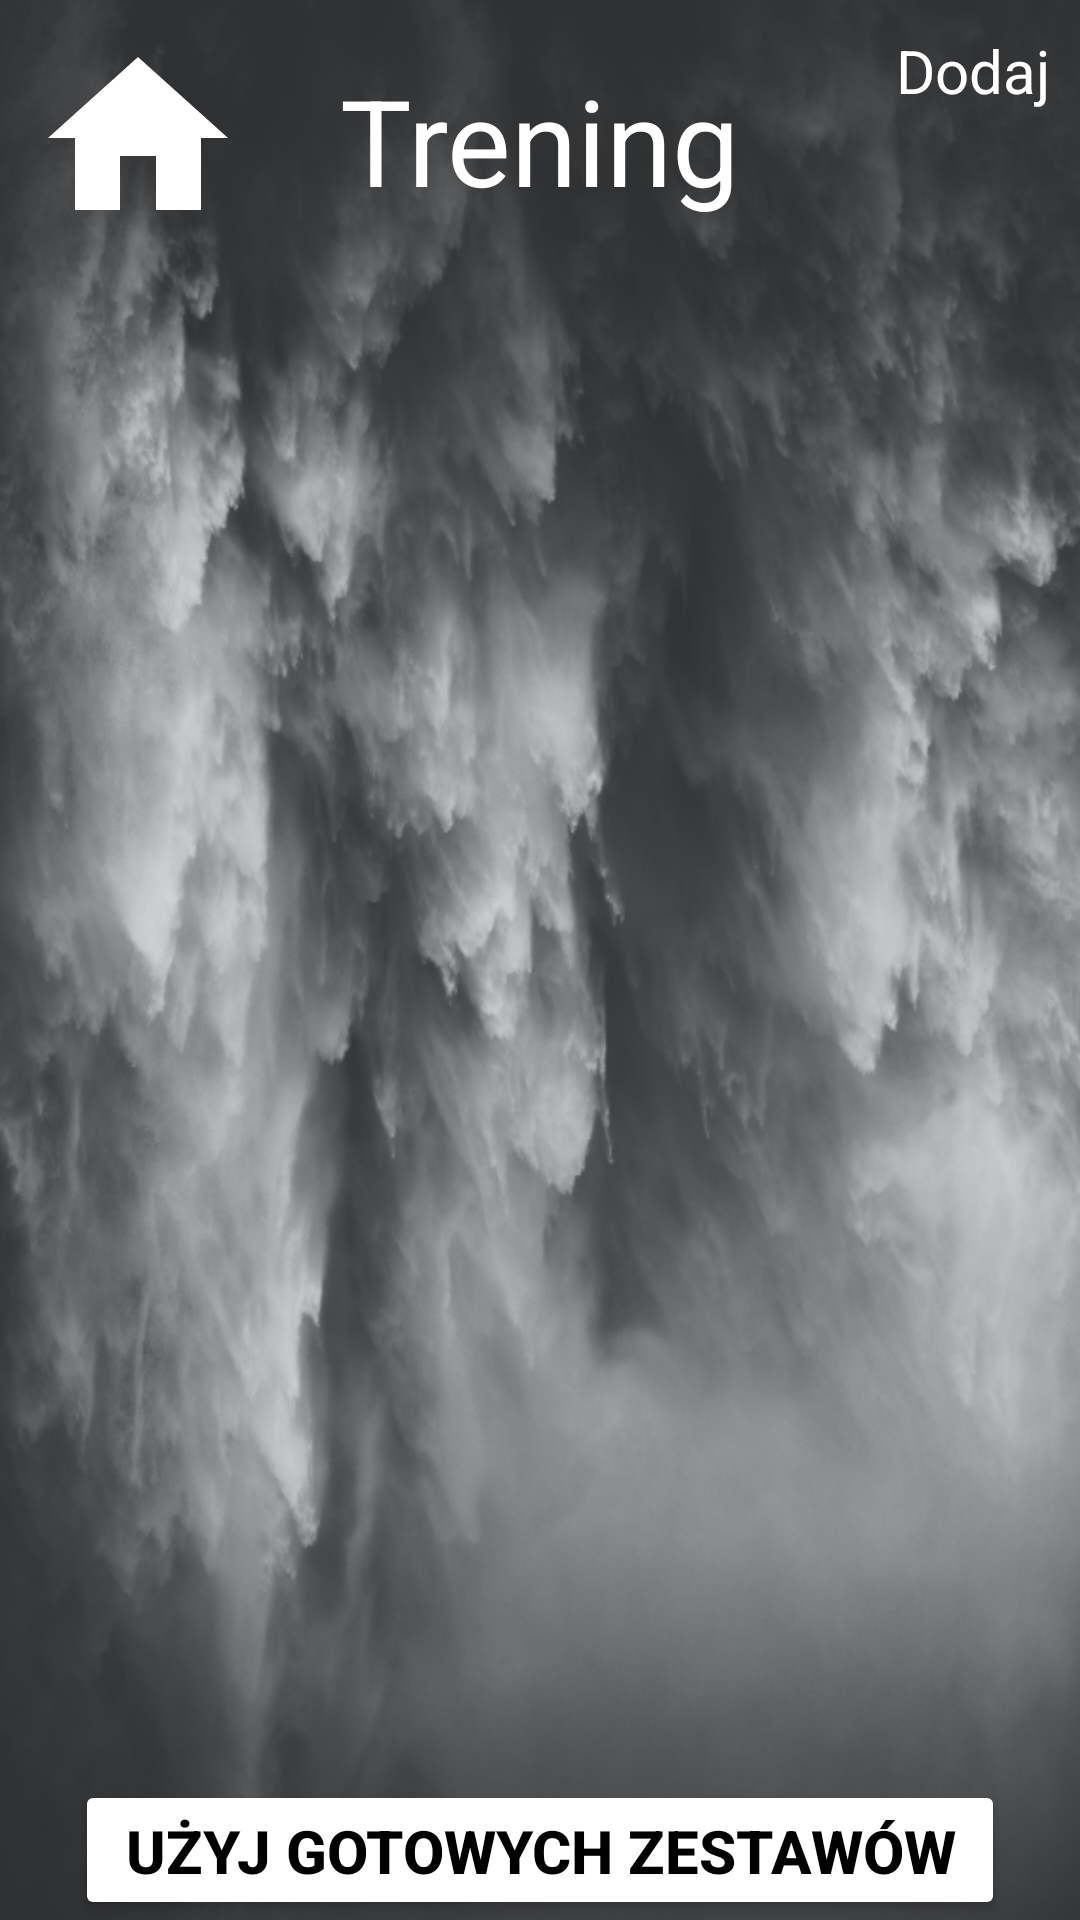

Screen size 1080px x 1920px. Icon name, then its center in pixels as (x,y):
home: (137,151)
